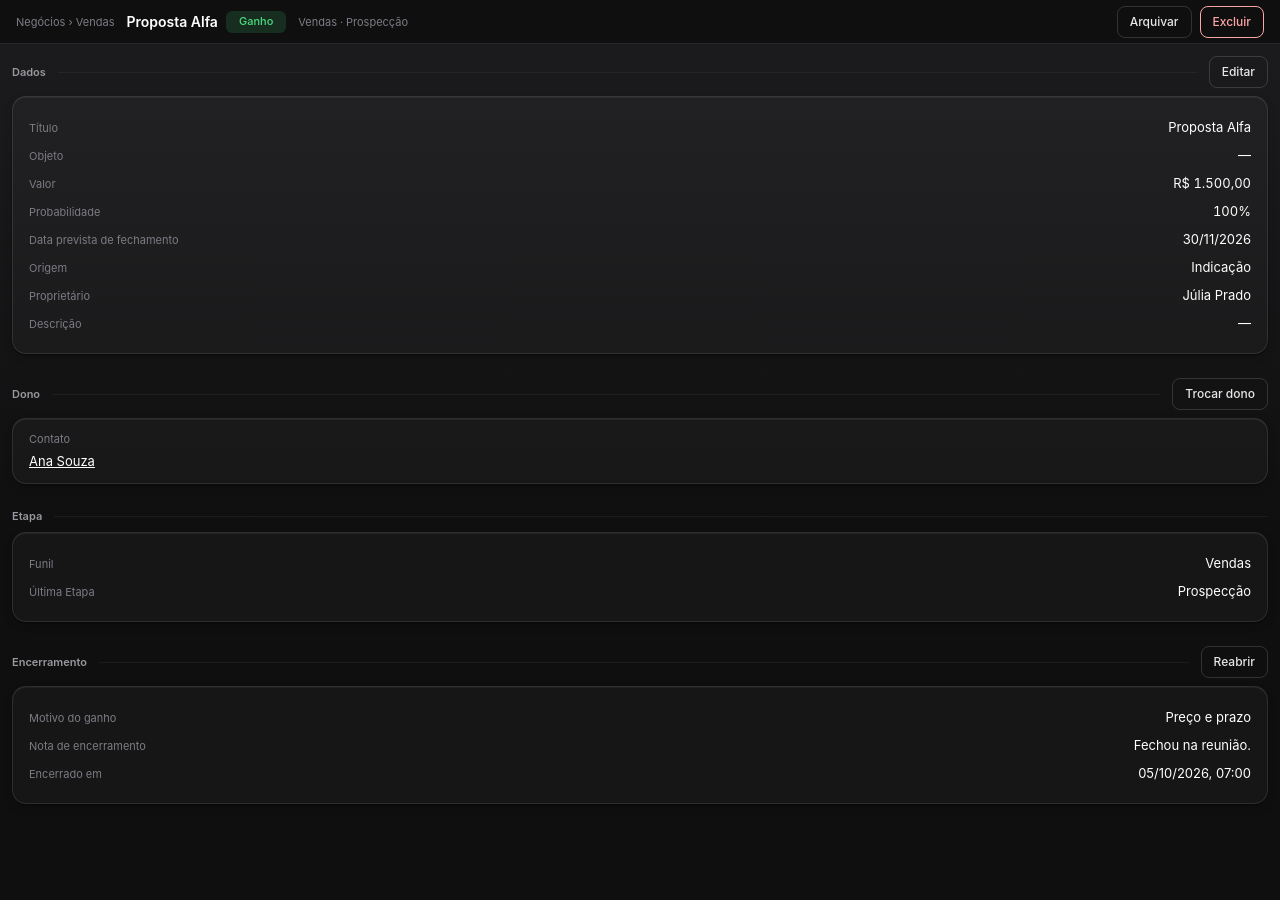
FichaDeNegocio — encerramento (d) › (d) Administrador reabre o ganho pelo diálogo: POST /negocios/n1/reabrir e Toast
Click the button "Reabrir": {"x": 1234, "y": 662} top-left (1201, 646), bottom-right (1268, 678)
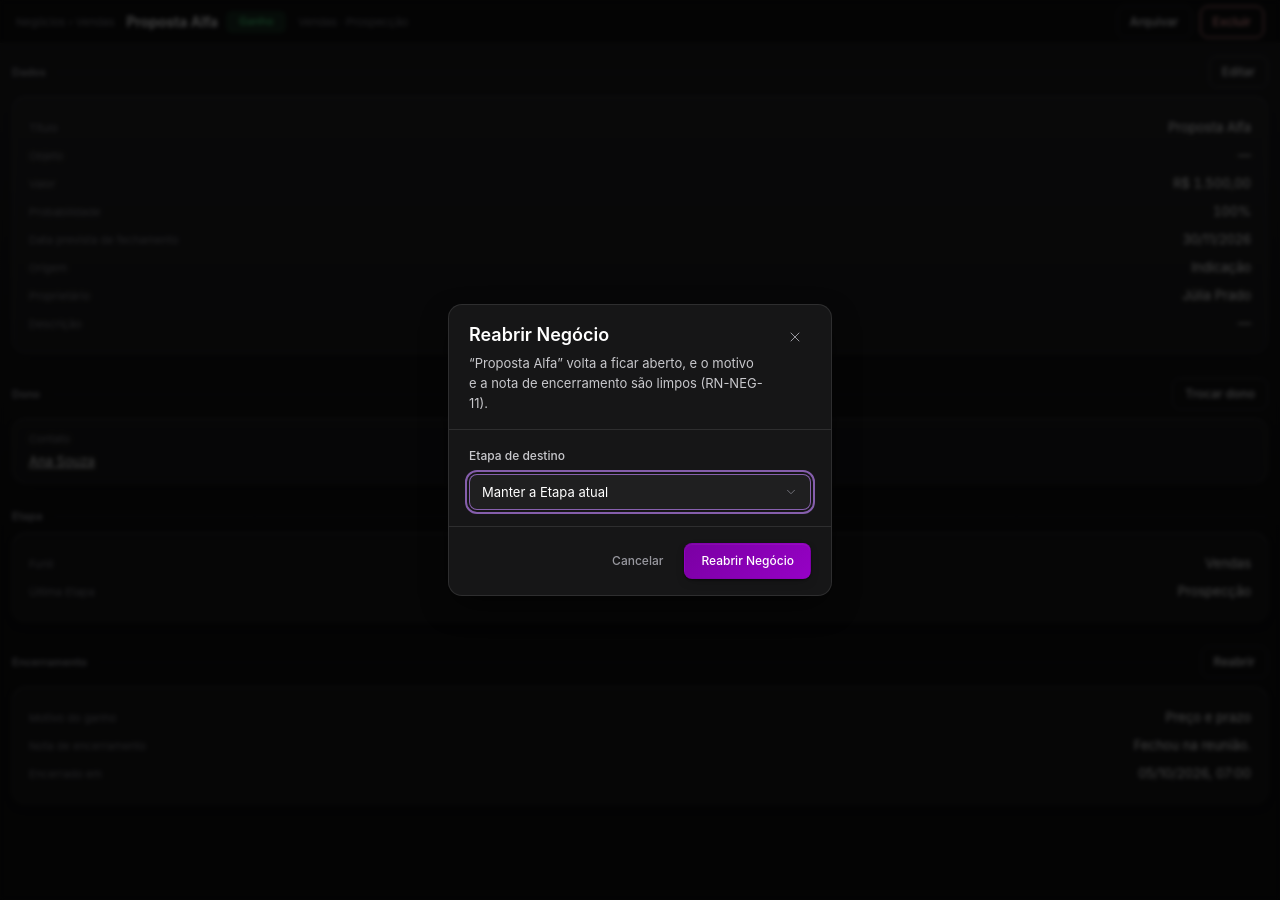
Click the button "Reabrir Negócio": {"x": 748, "y": 561} top-left (684, 543), bottom-right (811, 579)
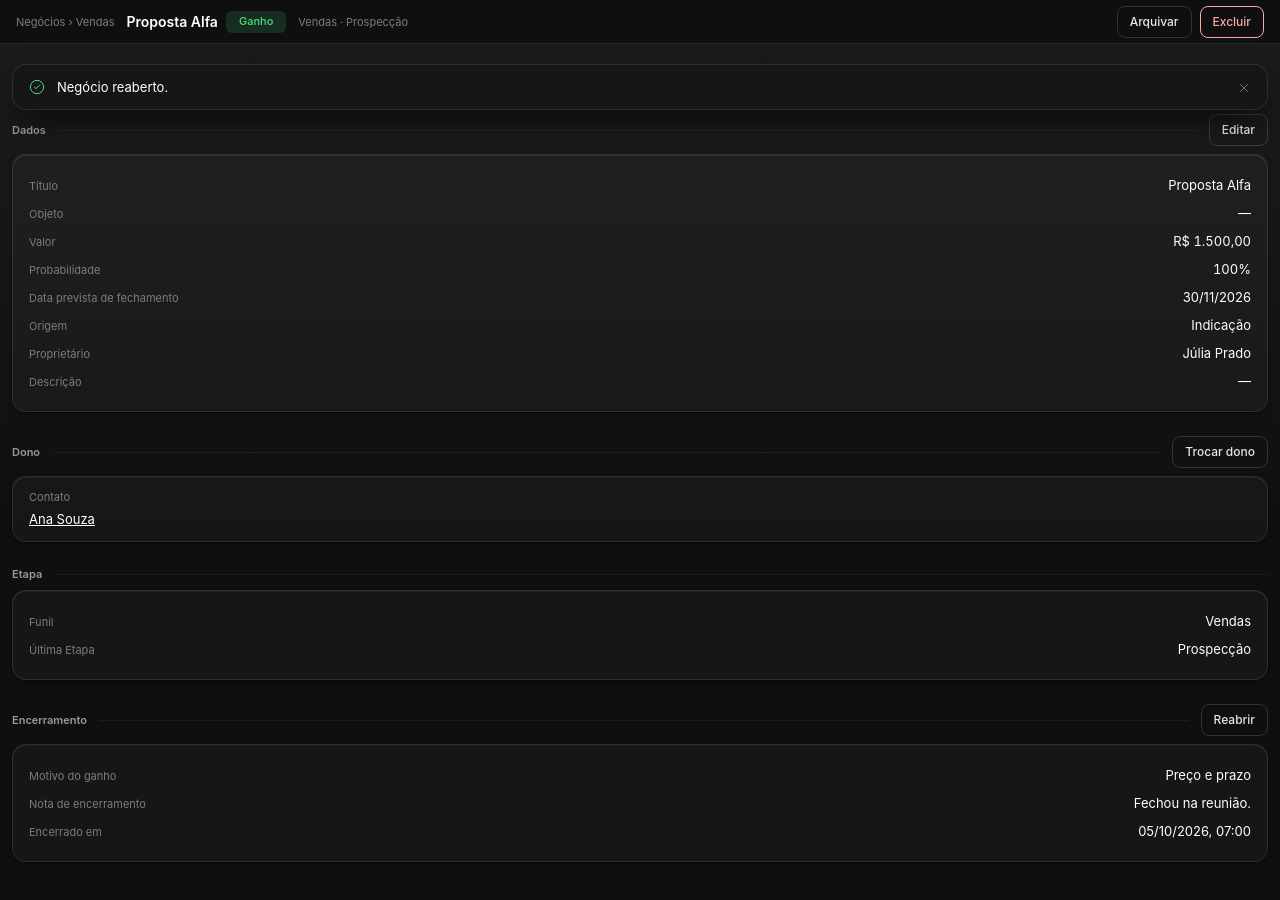
Result: the text "Negócio reaberto." is shown at top-left (57, 79), bottom-right (168, 95)
